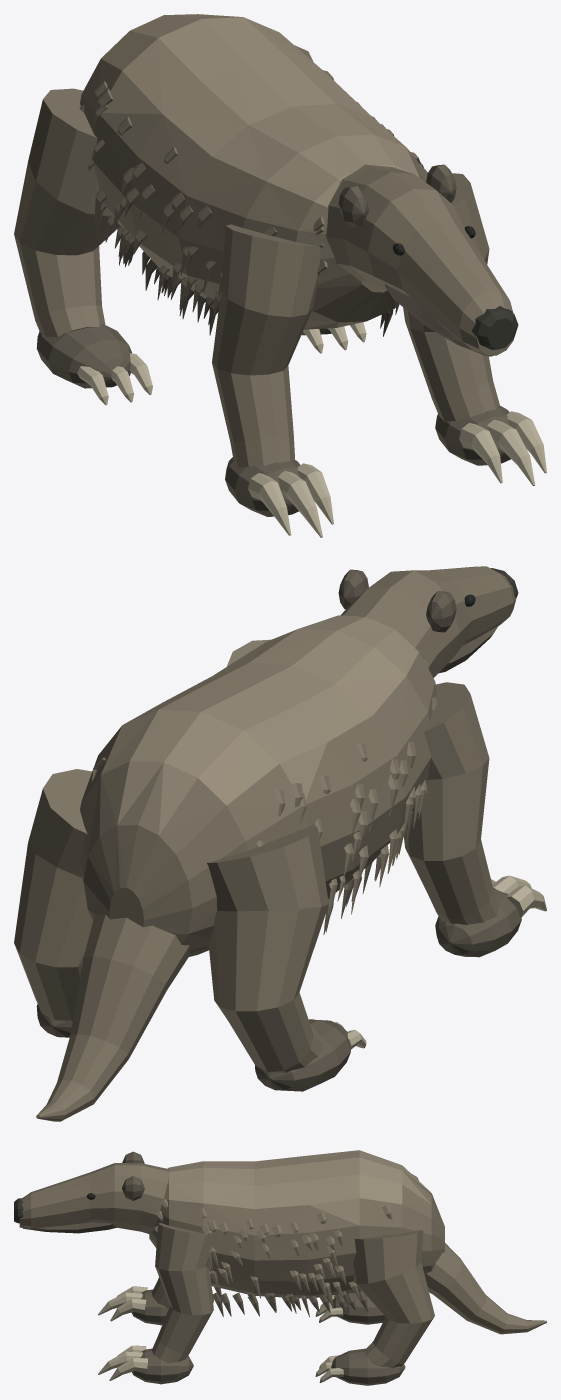
The picture shows the model from 3 angles, top to bottom: view 1: azimuth 30°, elevation 25°; view 2: azimuth 150°, elevation 25°; view 3: azimuth 270°, elevation 25°; orthographic projection. The views are drawn at different scales.
Parts seen in each view (by area): view 1: deep_low_trunk, forelimb_left, low_neck_and_long_narrow_head, hindlimb_left, stout_curved_claws, coarse_coat_locks, forelimb_right, hindfoot_support_left, forepaw_support_left, forepaw_support_right, soft_nasal_pad, lower_jaw_soft_profile (+2 smaller); view 2: deep_low_trunk, hindlimb_left, tapering_subordinate_tail, forelimb_left, hindlimb_right, low_neck_and_long_narrow_head, coarse_coat_locks, forepaw_support_left, hindfoot_support_left, stout_curved_claws, ear_left, ear_right; view 3: deep_low_trunk, hindlimb_right, low_neck_and_long_narrow_head, forelimb_right, coarse_coat_locks, tapering_subordinate_tail, stout_curved_claws, hindfoot_support_right, forepaw_support_right, hindfoot_support_left, forepaw_support_left, lower_jaw_soft_profile (+2 smaller).
Part boxes in pixels (<box>): deep_low_trunk: <box>80,14,427,329</box>; forelimb_left: <box>212,224,320,467</box>; low_neck_and_long_narrow_head: <box>326,164,513,355</box>; hindlimb_left: <box>14,88,119,337</box>; stout_curved_claws: <box>77,322,546,537</box>; coarse_coat_locks: <box>79,70,427,336</box>; forelimb_right: <box>403,173,499,422</box>; hindfoot_support_left: <box>36,323,131,388</box>; forepaw_support_left: <box>225,457,300,516</box>; forepaw_support_right: <box>435,406,510,465</box>; soft_nasal_pad: <box>471,306,518,349</box>; lower_jaw_soft_profile: <box>385,285,493,356</box>; deep_low_trunk: <box>80,615,436,956</box>; hindlimb_left: <box>207,825,328,1072</box>; tapering_subordinate_tail: <box>36,914,190,1121</box>; forelimb_left: <box>404,682,499,924</box>; hindlimb_right: <box>14,769,92,1021</box>; low_neck_and_long_narrow_head: <box>340,566,516,677</box>; coarse_coat_locks: <box>91,660,436,934</box>; forepaw_support_left: <box>435,888,521,957</box>; hindfoot_support_left: <box>255,1019,350,1091</box>; stout_curved_claws: <box>309,875,546,1049</box>; ear_left: <box>426,591,456,632</box>; ear_right: <box>338,569,368,609</box>; deep_low_trunk: <box>149,1150,444,1298</box>; hindlimb_right: <box>353,1230,434,1368</box>; low_neck_and_long_narrow_head: <box>19,1163,170,1233</box>; forelimb_right: <box>151,1223,213,1363</box>; coarse_coat_locks: <box>155,1199,392,1316</box>; tapering_subordinate_tail: <box>425,1243,546,1334</box>; stout_curved_claws: <box>98,1286,343,1382</box>; hindfoot_support_right: <box>331,1348,405,1385</box>; forepaw_support_right: <box>132,1348,193,1384</box>; hindfoot_support_left: <box>332,1293,385,1324</box>; forepaw_support_left: <box>131,1289,168,1325</box>; lower_jaw_soft_profile: <box>23,1222,116,1233</box>.
Size of the model in its own units: 1.18 by 1.31 by 3.25.
